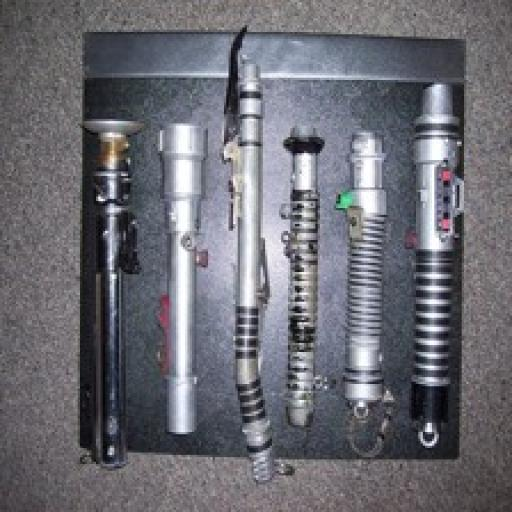lightsaber: (220, 40, 300, 481), (74, 109, 144, 467), (409, 80, 467, 443), (152, 112, 210, 442), (338, 134, 391, 414), (281, 122, 325, 428)
